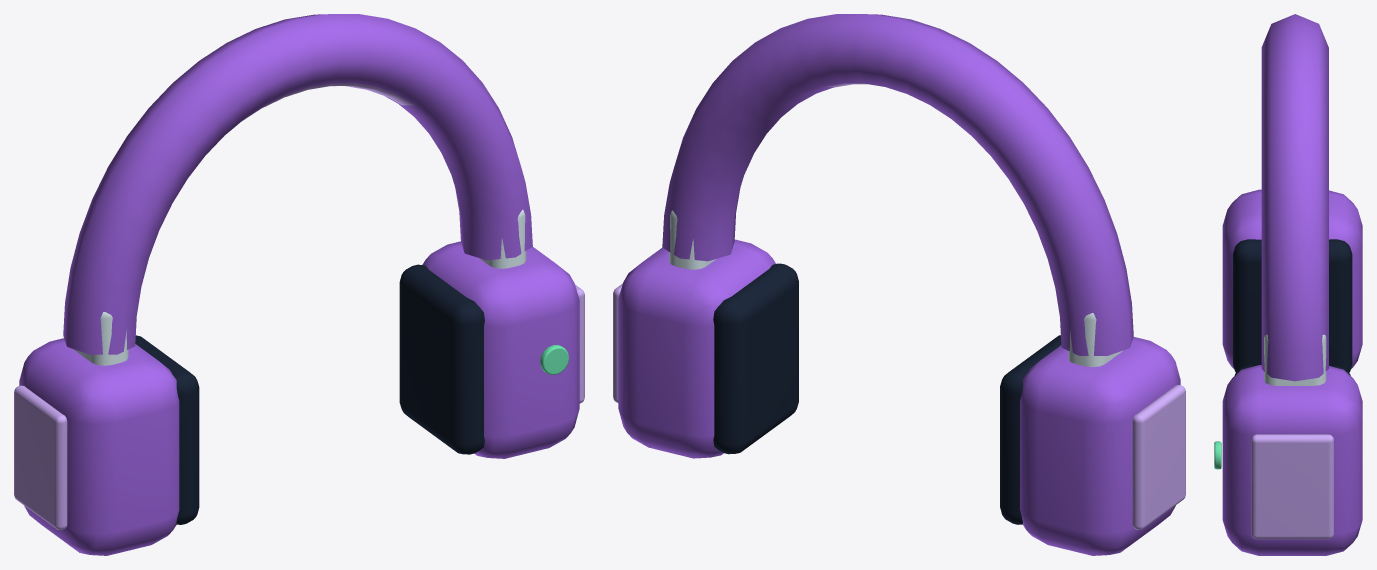
Rendered from headphones.glb.
3 renders of one model, left to right at view 1: azimuth 30°, elevation 25°; view 2: azimuth 150°, elevation 25°; view 3: azimuth 270°, elevation 25°, orthographic. The views are drawn at different scales.
Parts seen in each view (by area): view 1: headphones; view 2: headphones; view 3: headphones.
Boxes of the visible parts, left/top/right/bottom form: headphones: left=14, top=14, right=584, bottom=555; headphones: left=613, top=14, right=1185, bottom=555; headphones: left=1214, top=14, right=1362, bottom=555.
Size of the model in its own units: 1 by 0.8404 by 0.2685.
1 material, 1 textured.
